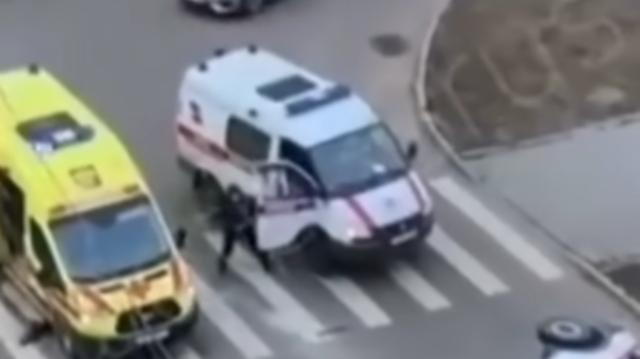ambulance: (176, 40, 437, 270)
intensive care unit: (3, 58, 204, 357)
